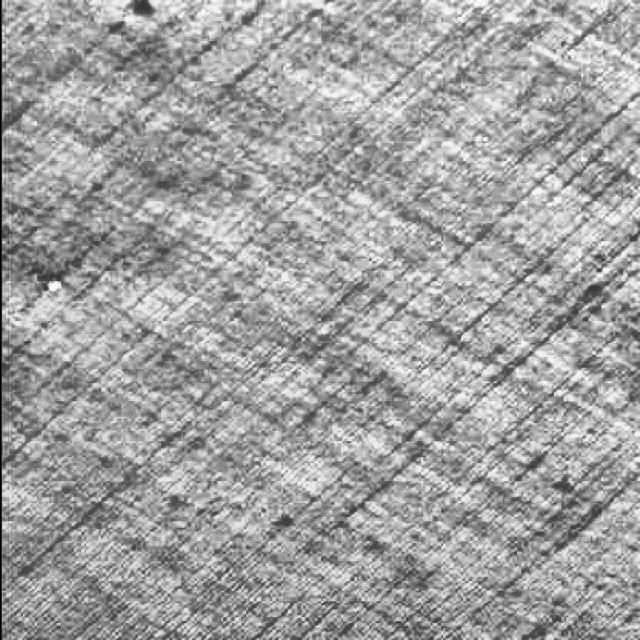hole: (42, 271, 67, 299)
